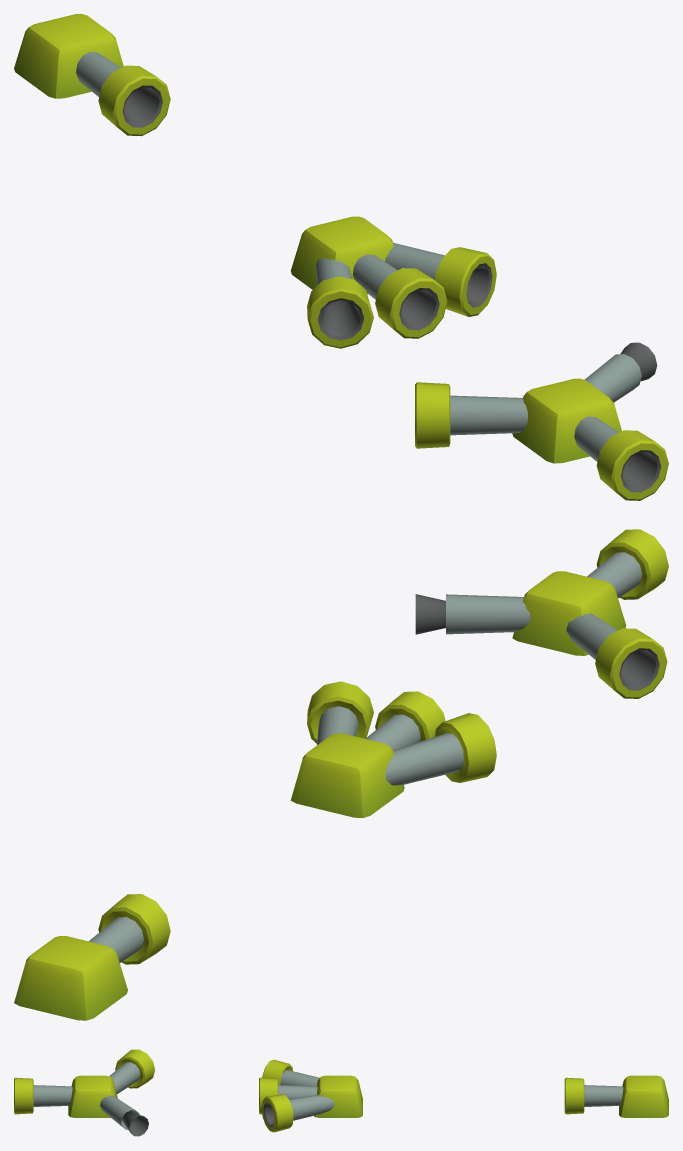
The model's file is HUGE.fbx.
3 views of the same model, one above another, from view 1: azimuth 30°, elevation 25°; view 2: azimuth 150°, elevation 25°; view 3: azimuth 270°, elevation 25° (orthographic). The views are drawn at different scales.
Visible parts, largest first — view 1: Barrel.003, Barrel.012, Barrel.002, Barrel.017, Barrel.007, Barrel.014, Barrel.005, Barrel.011, Barrel.009, Barrel.015, Barrel.018, Barrel.013 (+4 smaller); view 2: Barrel.003, Barrel.002, Barrel.012, Barrel.015, Barrel.018, Barrel.010, Barrel.011, Barrel.014, Barrel.005, Barrel.017, Barrel.009, Barrel.007 (+4 smaller); view 3: Barrel.003, Barrel.002, Barrel.012, Barrel.015, Barrel.008, Barrel.009, Barrel.013, Barrel.004, Barrel.018, Barrel.005, Barrel.014, Barrel.017 (+4 smaller).
Boxes of the visible parts, x1=… form: Barrel.003: x1=14, y1=14, x2=123, y2=98; Barrel.012: x1=512, y1=378, x2=621, y2=463; Barrel.002: x1=291, y1=216, x2=393, y2=294; Barrel.017: x1=450, y1=395, x2=527, y2=435; Barrel.007: x1=375, y1=268, x2=447, y2=338; Barrel.014: x1=596, y1=430, x2=668, y2=500; Barrel.005: x1=98, y1=65, x2=170, y2=136; Barrel.011: x1=307, y1=276, x2=373, y2=348; Barrel.009: x1=435, y1=247, x2=496, y2=316; Barrel.015: x1=584, y1=342, x2=657, y2=402; Barrel.018: x1=415, y1=382, x2=450, y2=448; Barrel.013: x1=574, y1=416, x2=657, y2=489; Barrel.003: x1=14, y1=936, x2=127, y2=1020; Barrel.002: x1=290, y1=733, x2=404, y2=817; Barrel.012: x1=512, y1=571, x2=626, y2=655; Barrel.015: x1=415, y1=594, x2=530, y2=634; Barrel.018: x1=595, y1=628, x2=667, y2=698; Barrel.010: x1=385, y1=733, x2=463, y2=785; Barrel.011: x1=434, y1=713, x2=496, y2=782; Barrel.014: x1=596, y1=529, x2=668, y2=599; Barrel.005: x1=98, y1=894, x2=170, y2=964; Barrel.017: x1=566, y1=613, x2=656, y2=687; Barrel.009: x1=307, y1=681, x2=373, y2=743; Barrel.007: x1=375, y1=691, x2=445, y2=741; Barrel.003: x1=619, y1=1075, x2=668, y2=1117; Barrel.002: x1=314, y1=1075, x2=362, y2=1117; Barrel.012: x1=68, y1=1075, x2=117, y2=1117; Barrel.015: x1=100, y1=1095, x2=148, y2=1136; Barrel.008: x1=265, y1=1094, x2=334, y2=1125; Barrel.009: x1=261, y1=1094, x2=293, y2=1132; Barrel.013: x1=33, y1=1085, x2=72, y2=1106; Barrel.004: x1=584, y1=1085, x2=623, y2=1106; Barrel.018: x1=115, y1=1049, x2=154, y2=1088; Barrel.005: x1=564, y1=1077, x2=584, y2=1114; Barrel.014: x1=14, y1=1077, x2=33, y2=1114; Barrel.017: x1=109, y1=1062, x2=140, y2=1093.
Size of the model in its own units: 90.57 by 21.21 by 377.
